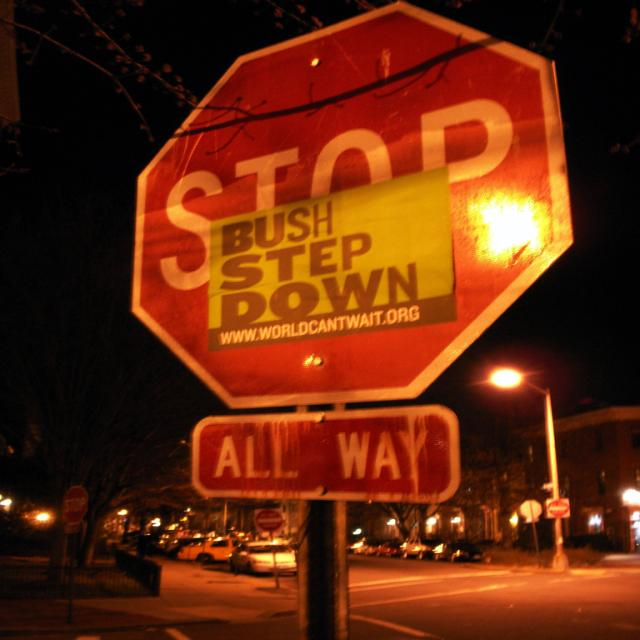Stop-sign: (127, 2, 576, 408)
